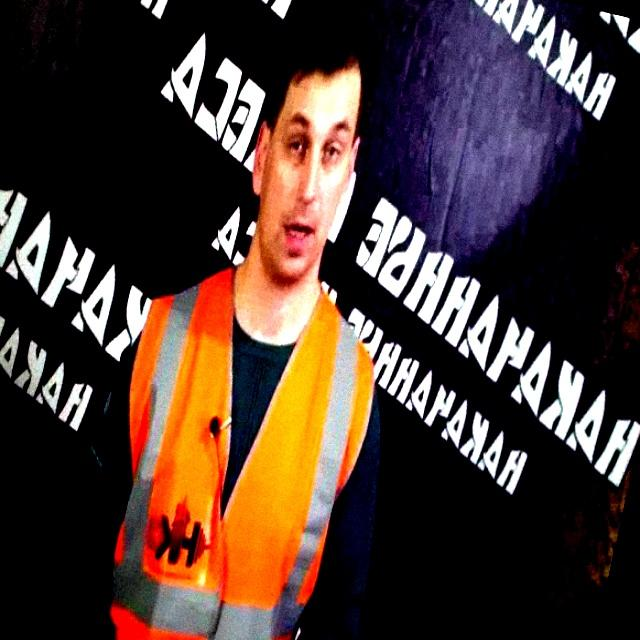safety_vest: (118, 270, 380, 640)
